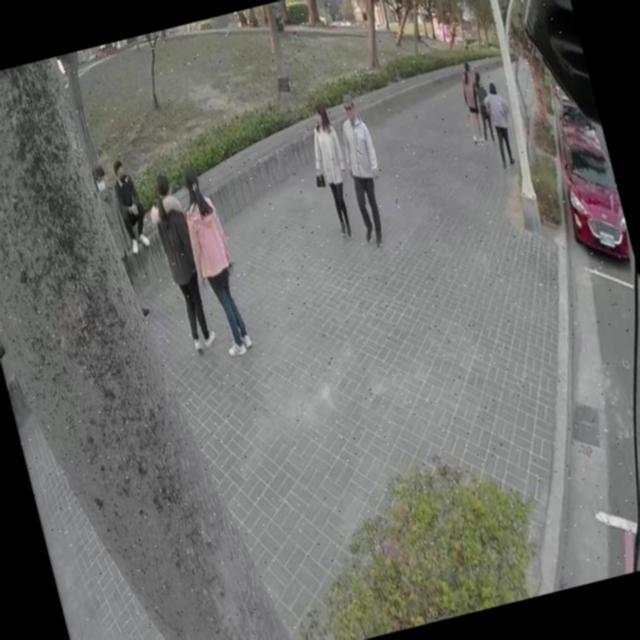person: (172, 160, 252, 358), (140, 170, 217, 353), (328, 90, 398, 252), (302, 104, 358, 243), (90, 164, 132, 280), (110, 159, 150, 252), (480, 81, 520, 168), (454, 61, 486, 139), (469, 70, 497, 141)
